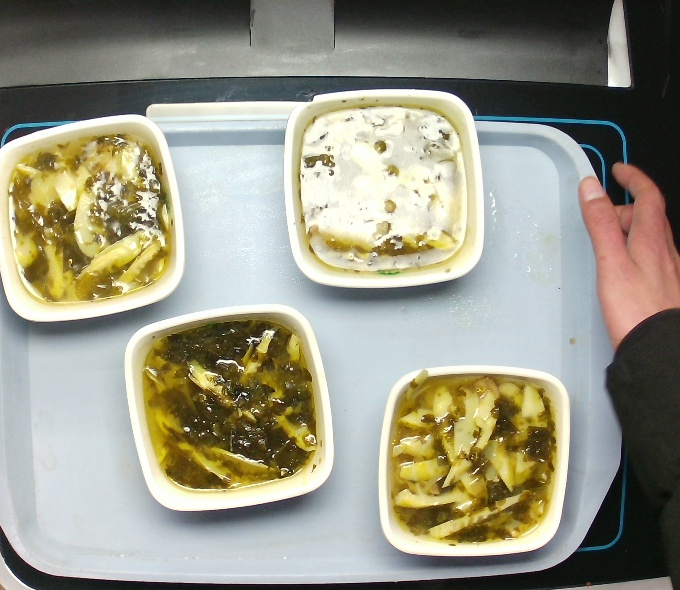wcq-DongSunTang: (130, 311, 326, 499), (289, 93, 480, 282), (1, 117, 176, 314), (384, 365, 563, 551)
